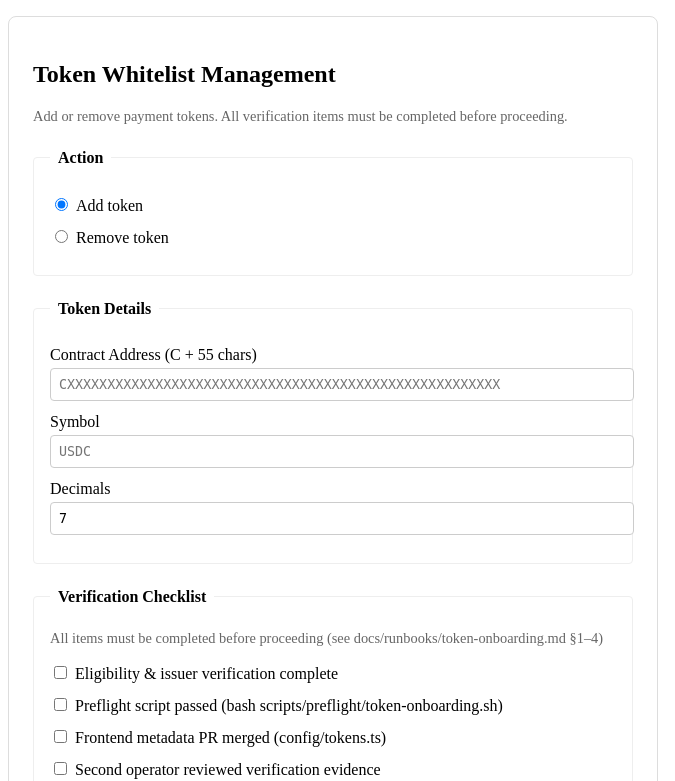
TokenWhitelistControl › warns on non-standard decimals
This screenshot has width=675, height=781.
Replace the text in the number field showing "7" with "6" at point(342, 518), box [50,502,634,535]
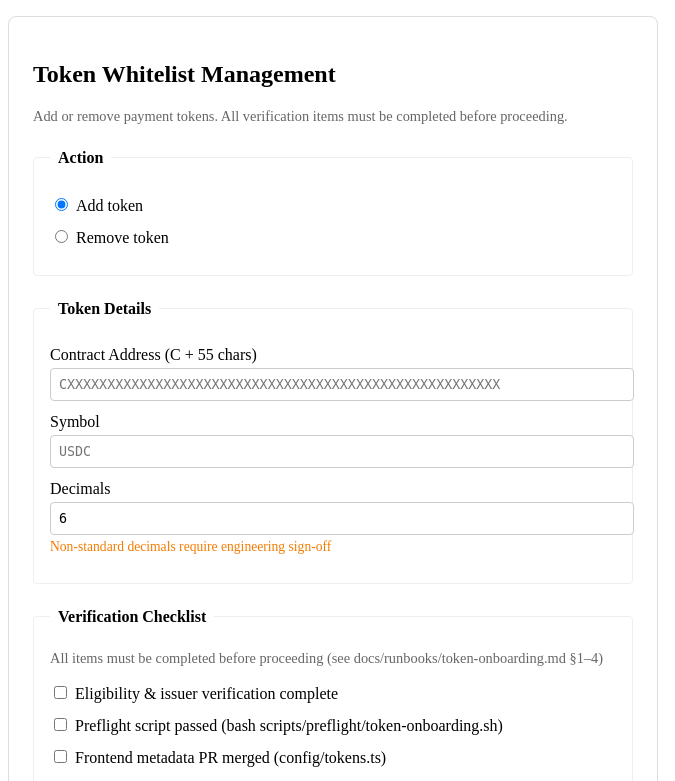
expect the text "Non-standard decimals require engineering sign-off" is shown: met, box [50,539,331,554]
